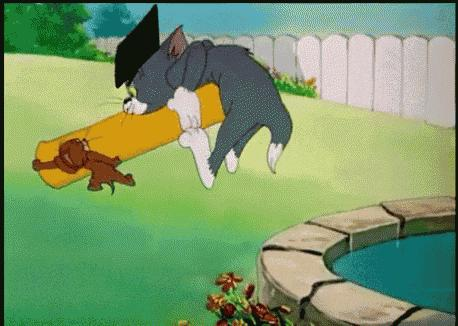jerry: (32, 137, 138, 199)
